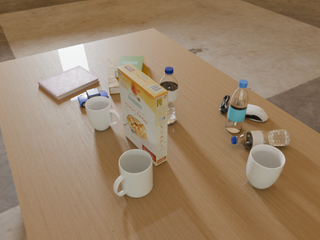book: (38, 66, 100, 100), (108, 56, 150, 95), (115, 56, 143, 78)
bottle: (226, 80, 248, 133), (231, 129, 291, 148), (159, 67, 178, 125)
box: (117, 63, 168, 166)
cup: (114, 149, 153, 197), (246, 145, 285, 189), (85, 97, 120, 131)
mouse: (245, 104, 268, 122)
toy_car: (78, 88, 109, 107)
